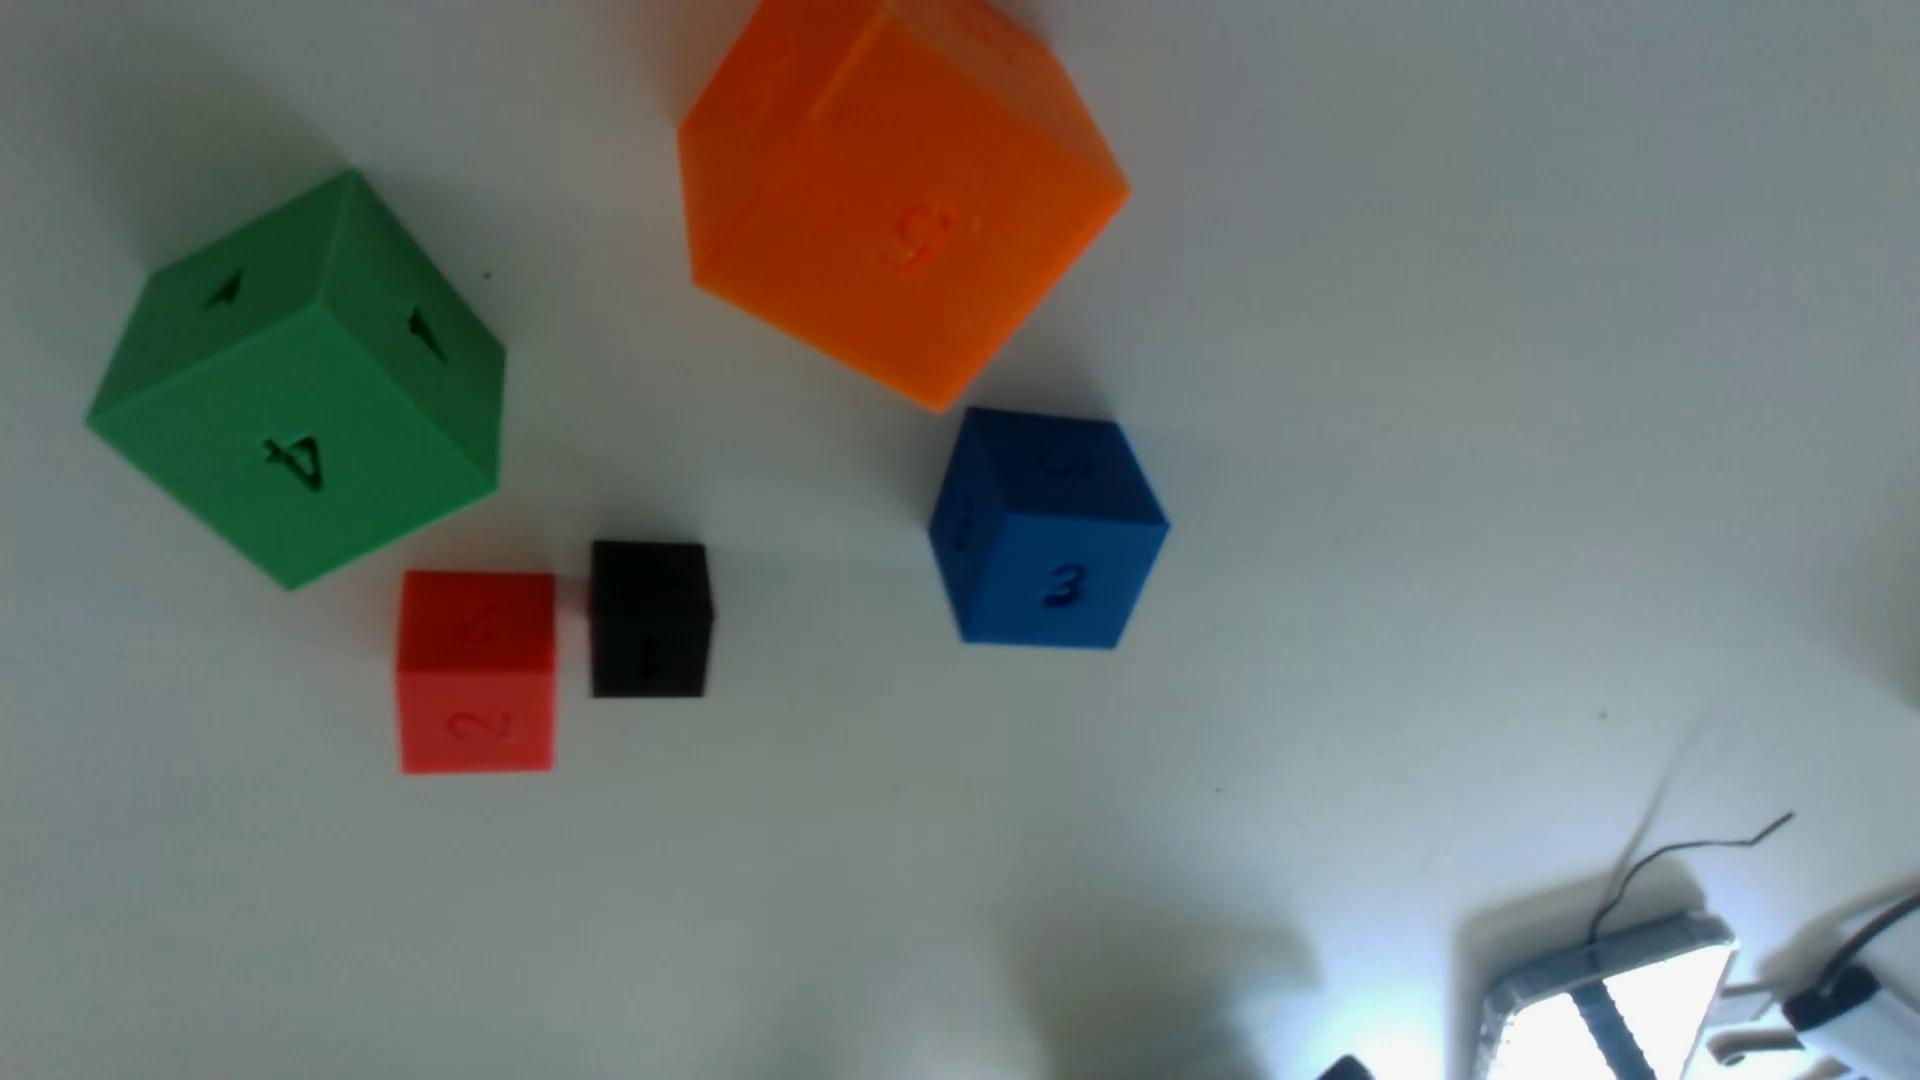black: (588, 538, 716, 698)
blue: (928, 406, 1168, 649)
green: (88, 170, 506, 589)
orange: (678, 0, 1127, 409)
red: (396, 568, 558, 774)
